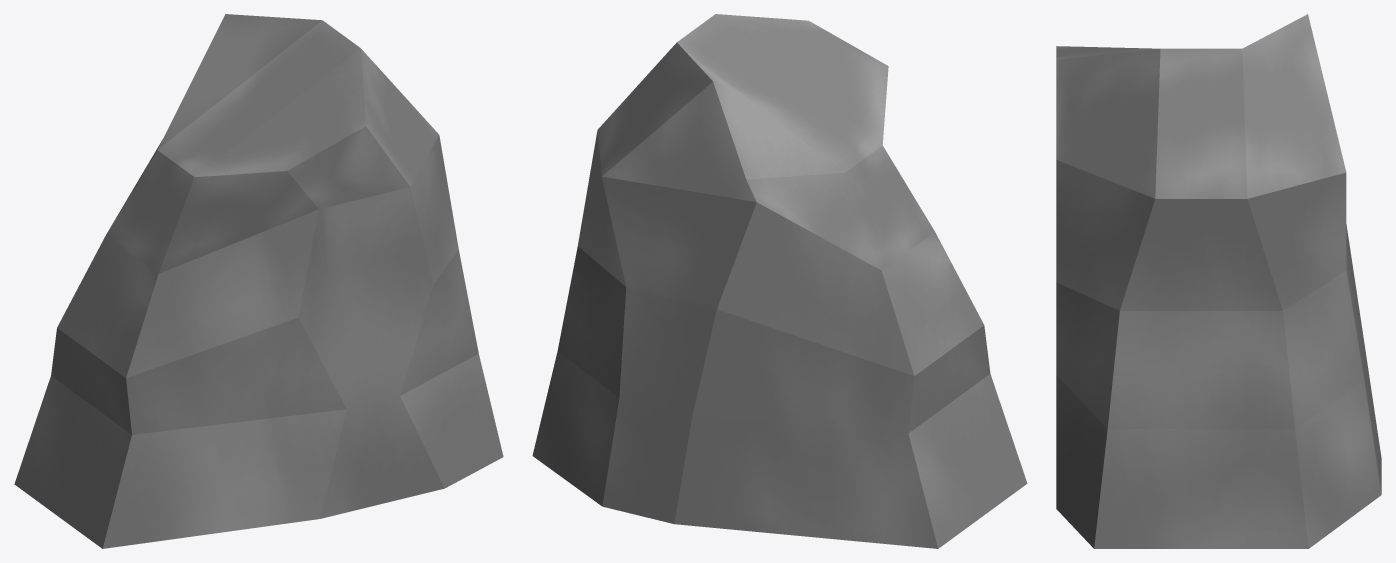
Rendered from piedra3.glb.
3 views of the same model, side by side, from view 1: azimuth 30°, elevation 25°; view 2: azimuth 150°, elevation 25°; view 3: azimuth 270°, elevation 25° (orthographic). The views are drawn at different scales.
Parts seen in each view (by area): view 1: piedra 3; view 2: piedra 3; view 3: piedra 3.
Part boxes in pixels (x1,y1,x2,y2): piedra 3: (14,14,503,548); piedra 3: (532,14,1027,548); piedra 3: (1056,14,1381,548).
Size of what is drawn, in the model's own units: 3 by 3 by 2.
Materials: 1 (1 with a texture image).
